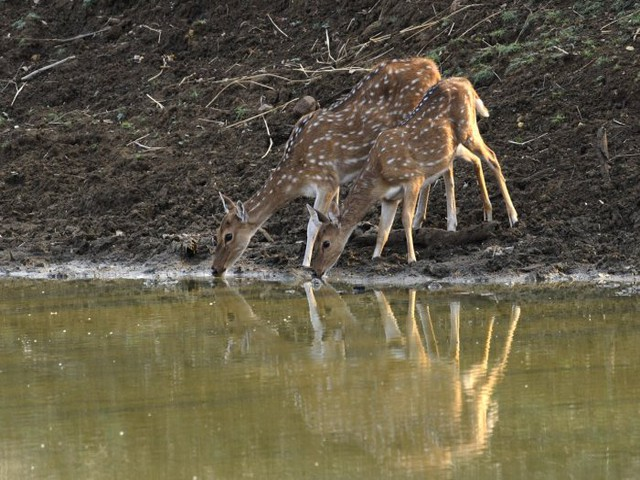deer: (306, 73, 521, 277), (206, 118, 303, 277)
